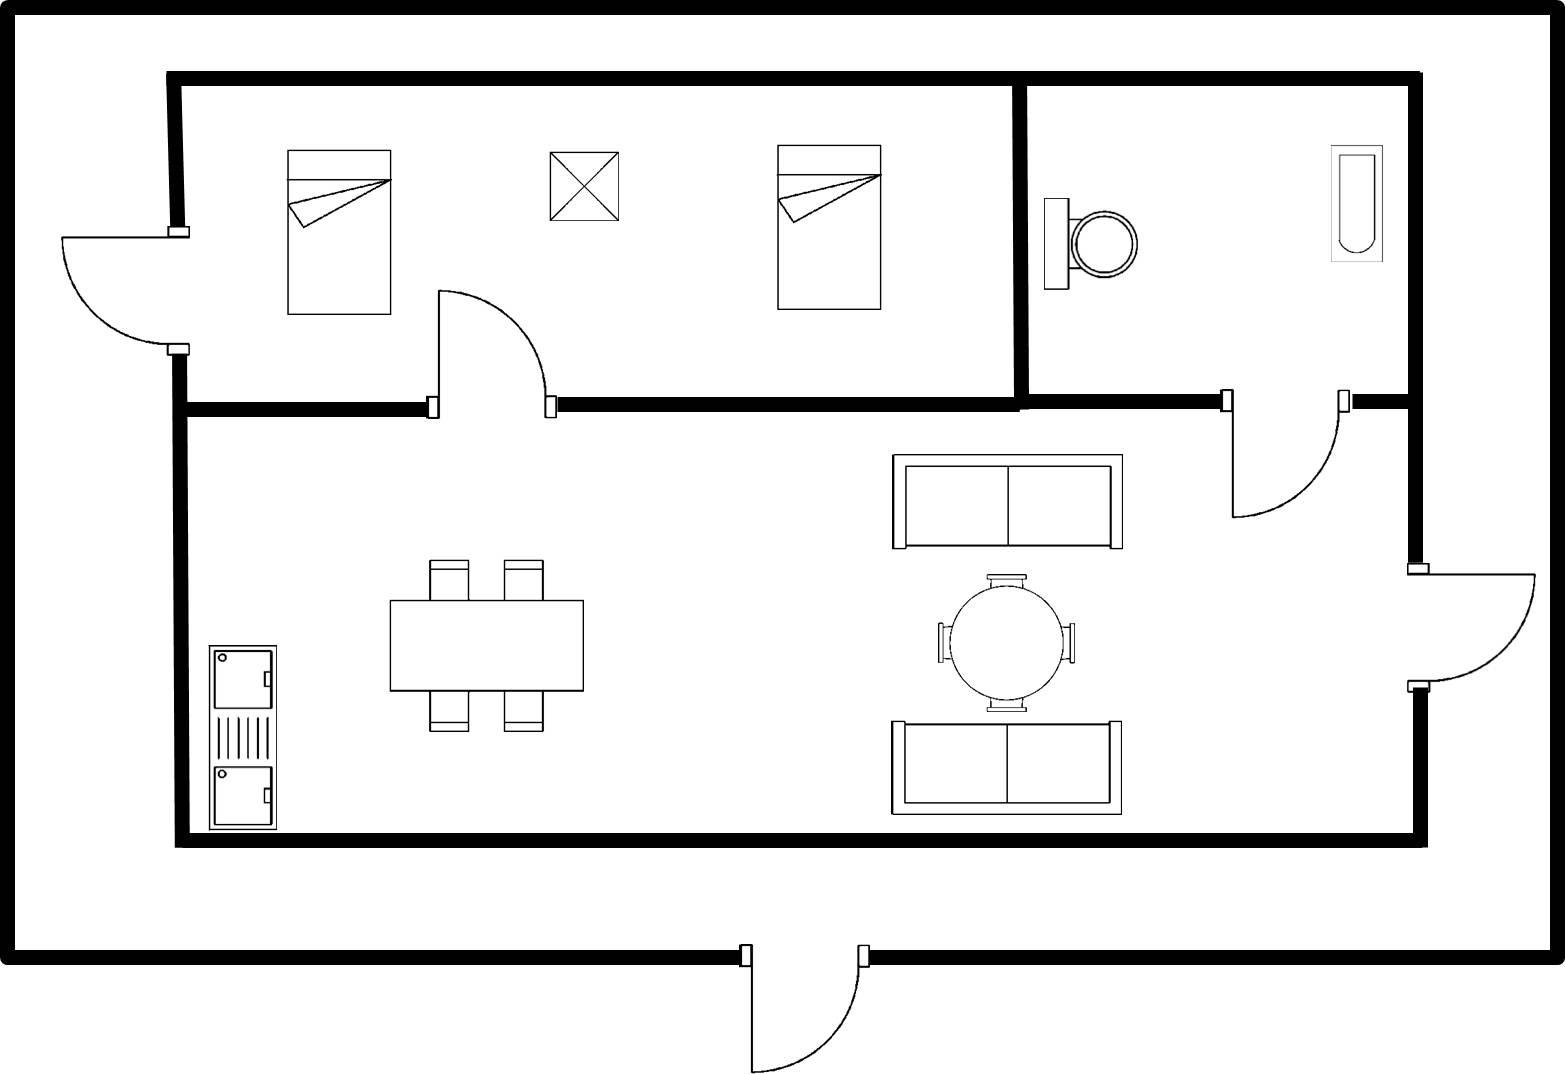sink: (200, 639, 285, 836)
